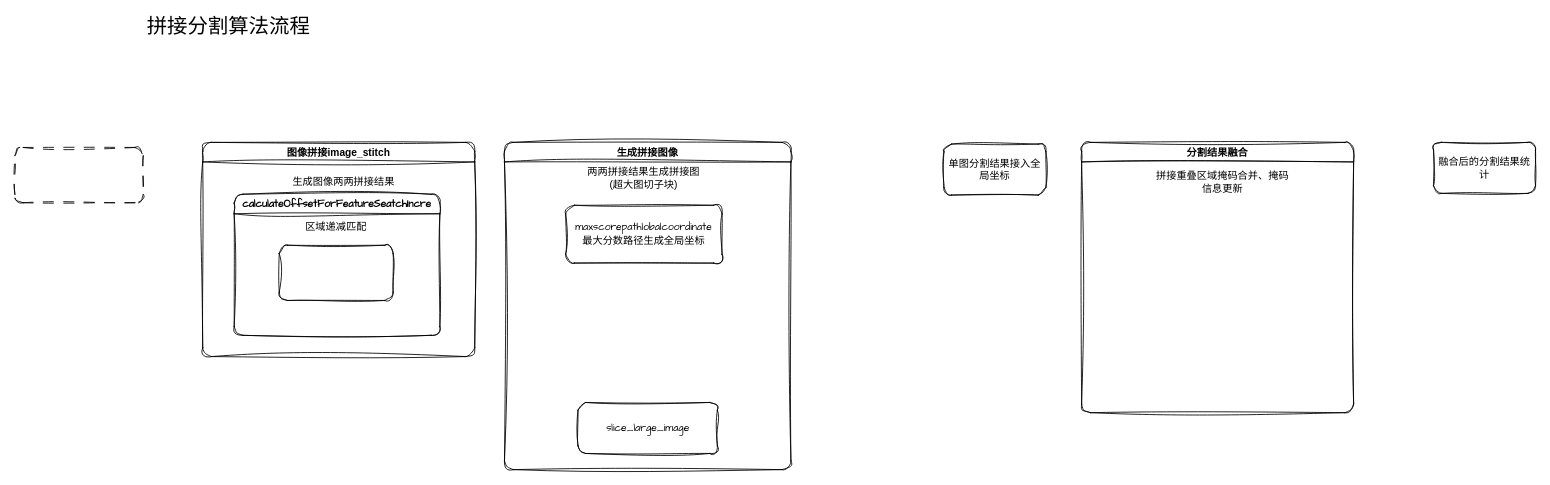
Some shapes in this 1550 by 485 pixel diagram are drawn without their labels. Each missing label, with the centre of its shape:
"crop_first_line 删除图像第一行(黑线采集) 图像头丢失" belongs at point (78, 175).
"increase_roi_pm" belongs at point (335, 272).
